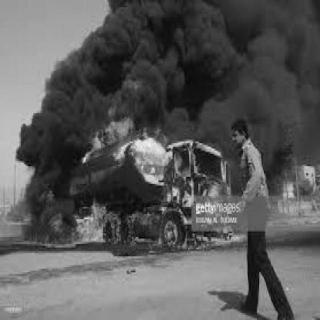Fire: (84, 101, 154, 147), (172, 143, 206, 177)
Smoke: (15, 0, 316, 178)
